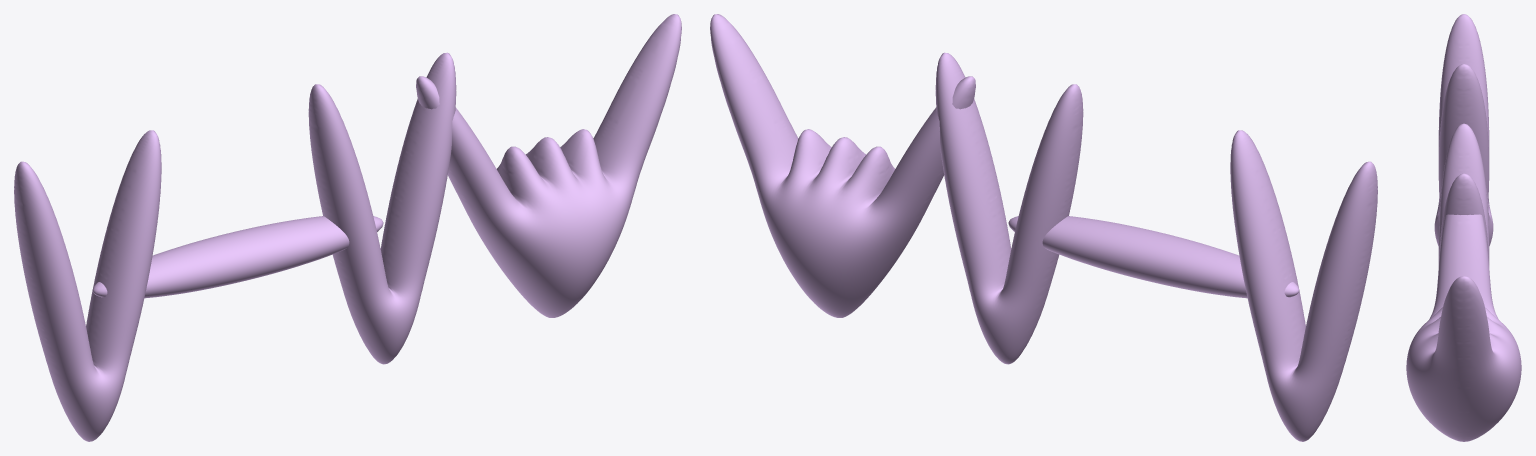
The model's file is metal-Asset 40.glb.
3 renders of one model, left to right at view 1: azimuth 30°, elevation 25°; view 2: azimuth 150°, elevation 25°; view 3: azimuth 270°, elevation 25°, orthographic. The views are drawn at different scales.
Parts seen in each view (by area): view 1: metal-Asset 40; view 2: metal-Asset 40; view 3: metal-Asset 40.
Boxes of the visible parts, x1,y1,x2,y2 form: metal-Asset 40: (14,14,681,441); metal-Asset 40: (710,14,1377,441); metal-Asset 40: (1406,14,1521,441).
Size of the model in its own units: 19.46 by 8.43 by 3.7.
